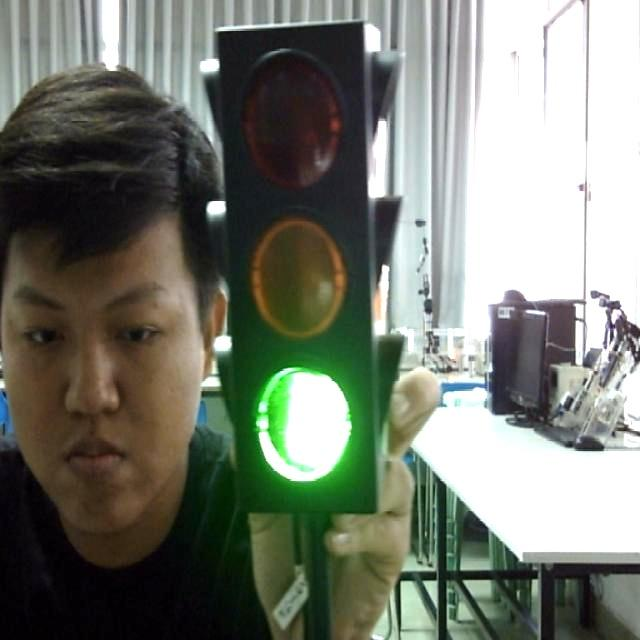Green: (183, 20, 414, 516)
